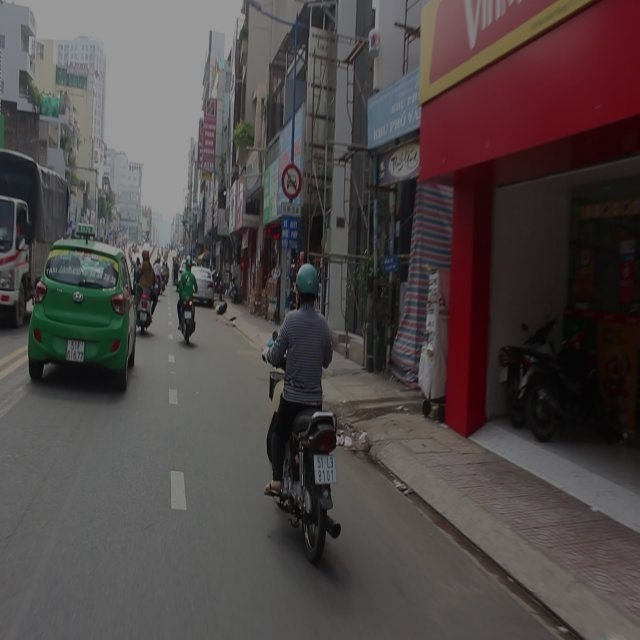P.103a: (281, 163, 302, 199)
